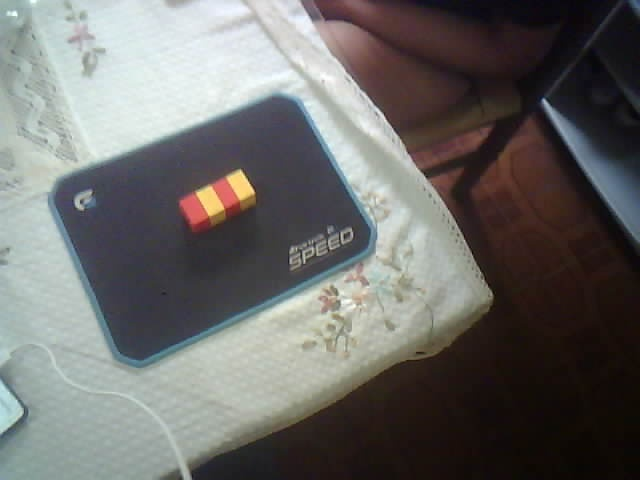lego: (178, 169, 258, 234)
